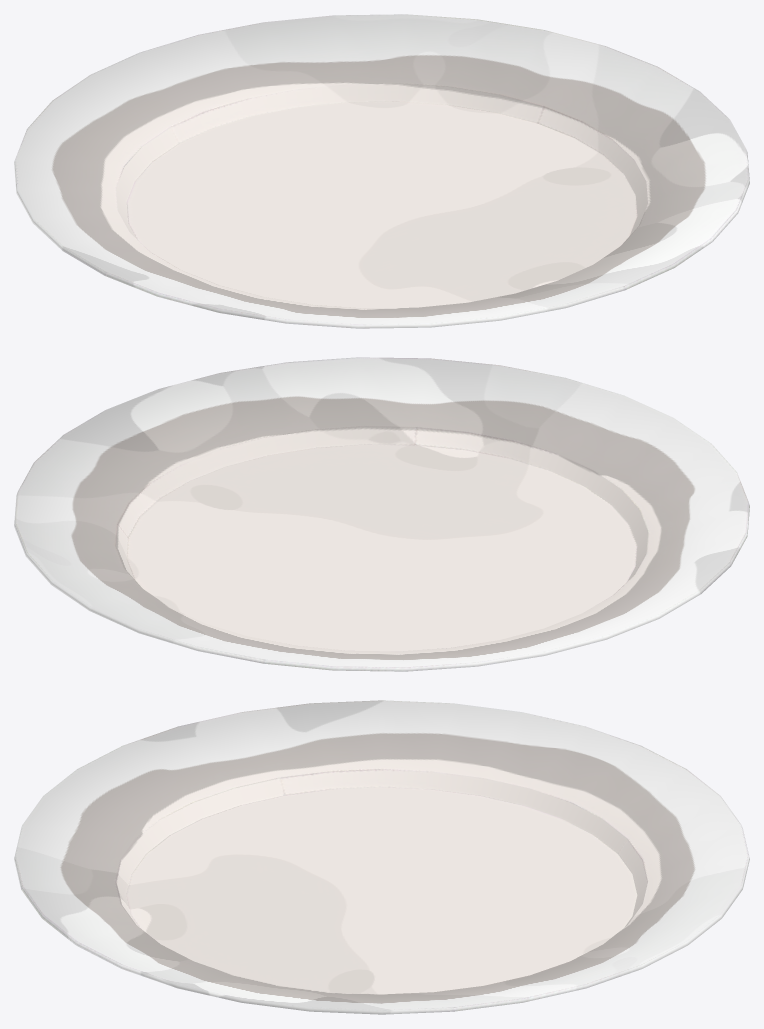
Rendered from Plate.glb.
The picture shows the model from 3 angles, top to bottom: view 1: azimuth 30°, elevation 25°; view 2: azimuth 150°, elevation 25°; view 3: azimuth 270°, elevation 25°; orthographic projection.
Parts seen in each view (by area): view 1: Plate_GEO; view 2: Plate_GEO; view 3: Plate_GEO.
Part boxes in pixels (x1,y1,x2,y2): Plate_GEO: (14,14,749,328); Plate_GEO: (14,357,749,671); Plate_GEO: (14,700,749,1014).
Bounding box in the file's own units: 0.3385 × 0.022 × 0.3385.
1 material, 1 textured.
